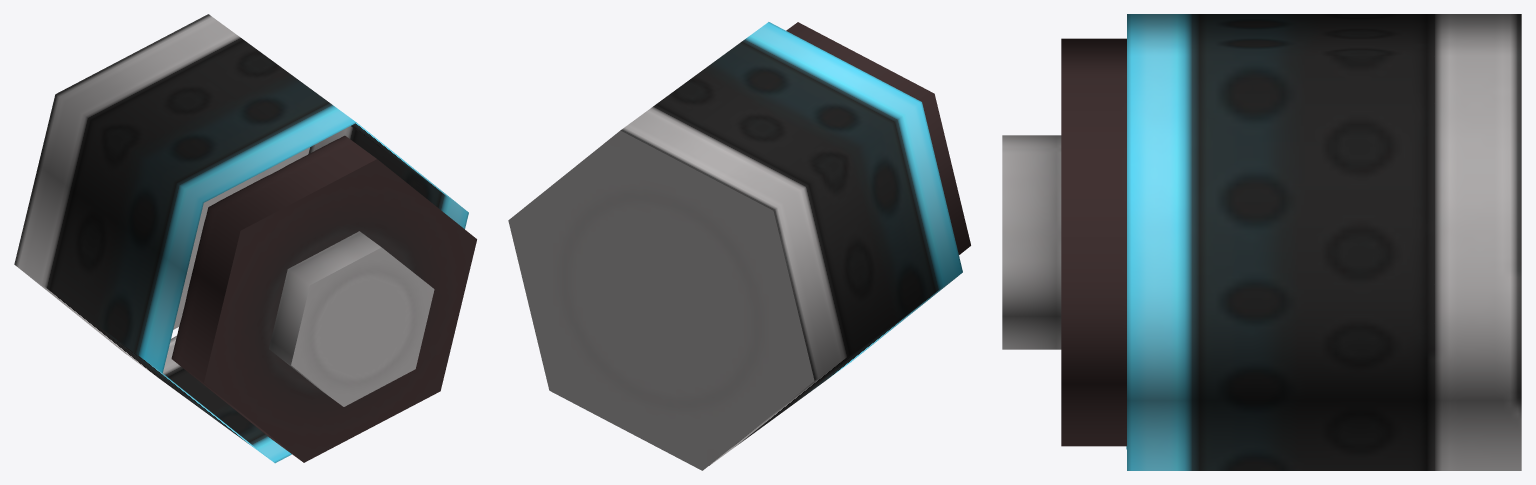
The model's file is obj_interactive_suspensionoffroad_05_on_lod1.fbx.
3 views of the same model, side by side, from view 1: azimuth 30°, elevation 25°; view 2: azimuth 150°, elevation 25°; view 3: azimuth 270°, elevation 25° (orthographic). The views are drawn at different scales.
Visible parts, largest first — view 1: obj_interactive_suspensionoffroad_05_off_lod1; view 2: obj_interactive_suspensionoffroad_05_off_lod1; view 3: obj_interactive_suspensionoffroad_05_off_lod1.
Boxes of the visible parts, <box> form: obj_interactive_suspensionoffroad_05_off_lod1: <box>14,14,476,463</box>; obj_interactive_suspensionoffroad_05_off_lod1: <box>508,22,970,470</box>; obj_interactive_suspensionoffroad_05_off_lod1: <box>1002,14,1521,470</box>.
Bounding box in the file's own units: 1.02 × 1.02 × 1.13.
1 material, 1 textured.
